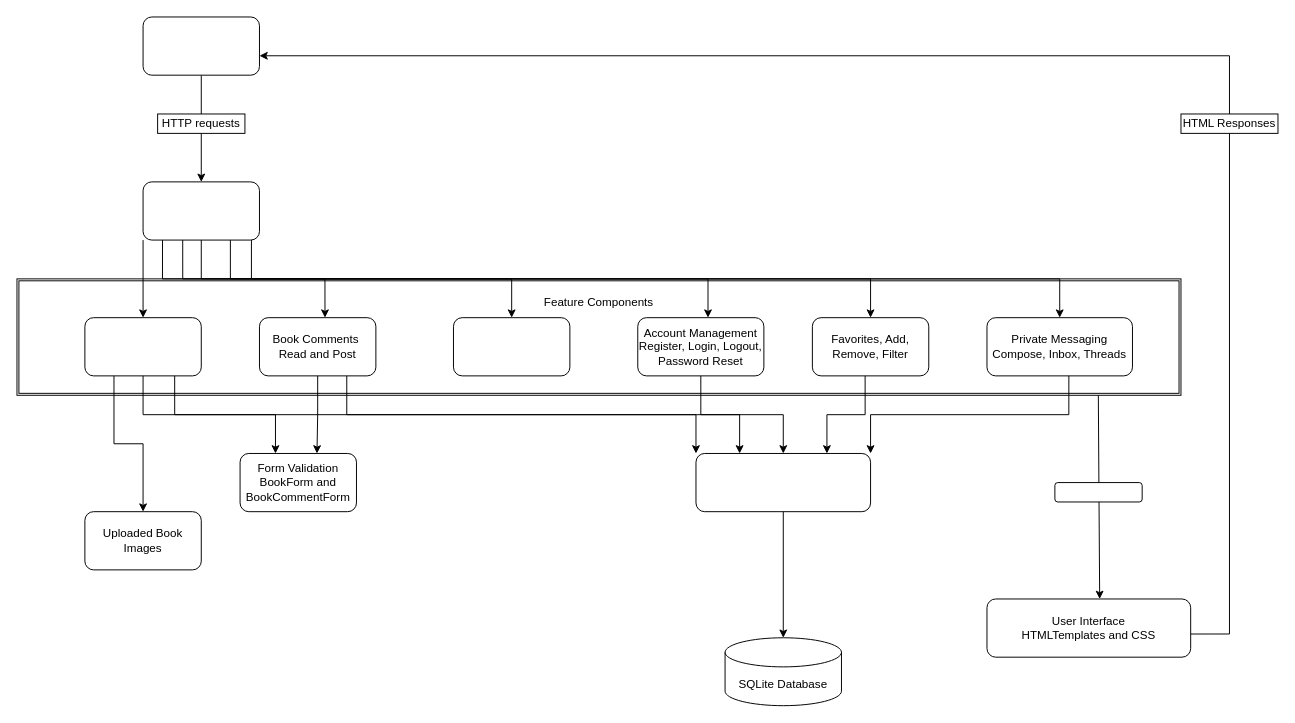
Image size: 1295x723. Some labels were removed from this diagram. The shapes that lost their labels are listed below. From the top down, each one's centre as x and y in pixels, then its label:
point 200,45: Web Browser
point 200,210: URL Routing bookEx/urls.py and bookMng/urls.py
point 142,346: Book Management Post, Browse, Search, View, Delete
point 511,346: About us Display Information
point 783,482: Data Access - Django ORM Users, Books, Comments, Messages
point 1098,492: Render Pages
